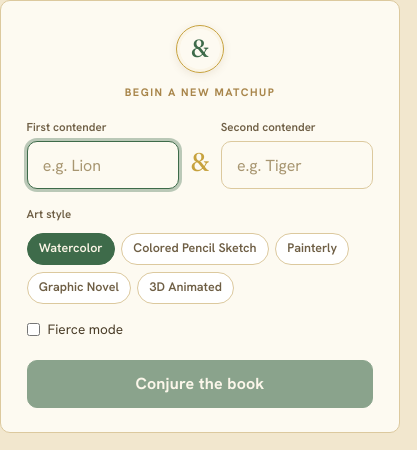
Scenario: MatchupComposer › disables Conjure until both contenders are filled
The image size is (417, 450).
Expected: the button "Conjure the book" is disabled, 27,360 -> 373,408
Type "Lion" into the field labelled "First contender".
click(103, 165); type("Lion")  # box 27,141 -> 179,189
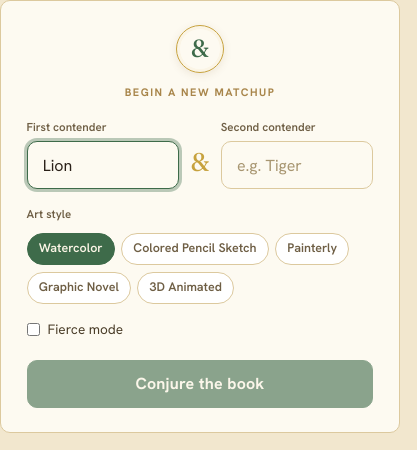
Expected: the button "Conjure the book" is disabled, 27,360 -> 373,408
Type "Tiger" into the field labelled "Second contender".
click(297, 165); type("Tiger")  # box 221,141 -> 373,189
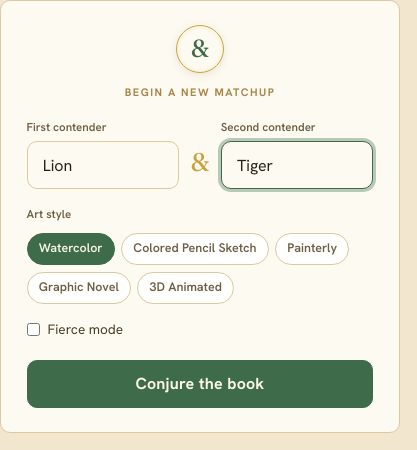
Expected: the button "Conjure the book" is enabled, 27,360 -> 373,408
